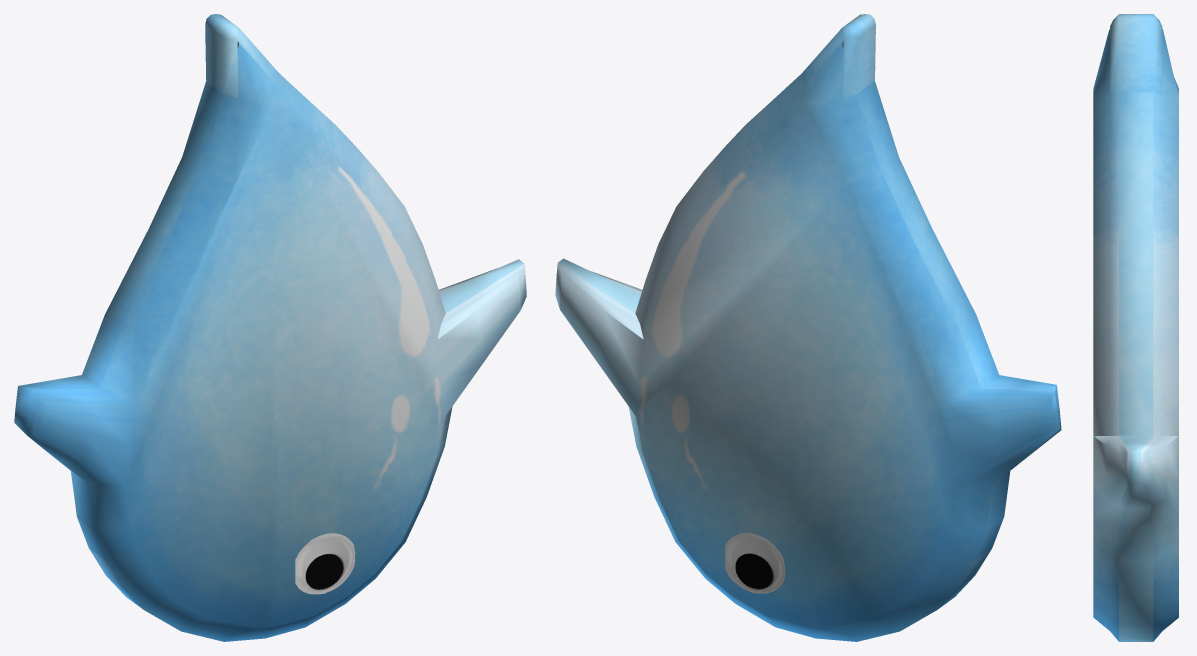
File: Tear Fish.fbx
3 views of the same model, side by side, from view 1: azimuth 30°, elevation 25°; view 2: azimuth 150°, elevation 25°; view 3: azimuth 270°, elevation 25° (orthographic). The views are drawn at different scales.
Parts seen in each view (by area): view 1: Plane.004, Wobble Eye.005; view 2: Plane.004, Wobble Eye.005; view 3: Plane.004.
Boxes of the visible parts, x1=… form: Plane.004: x1=14, y1=14, x2=526, y2=641; Wobble Eye.005: x1=295, y1=533, x2=355, y2=594; Plane.004: x1=555, y1=14, x2=1061, y2=641; Wobble Eye.005: x1=725, y1=533, x2=785, y2=593; Plane.004: x1=1093, y1=14, x2=1178, y2=641.
Size of the model in its own units: 119 by 139 by 19.75.
